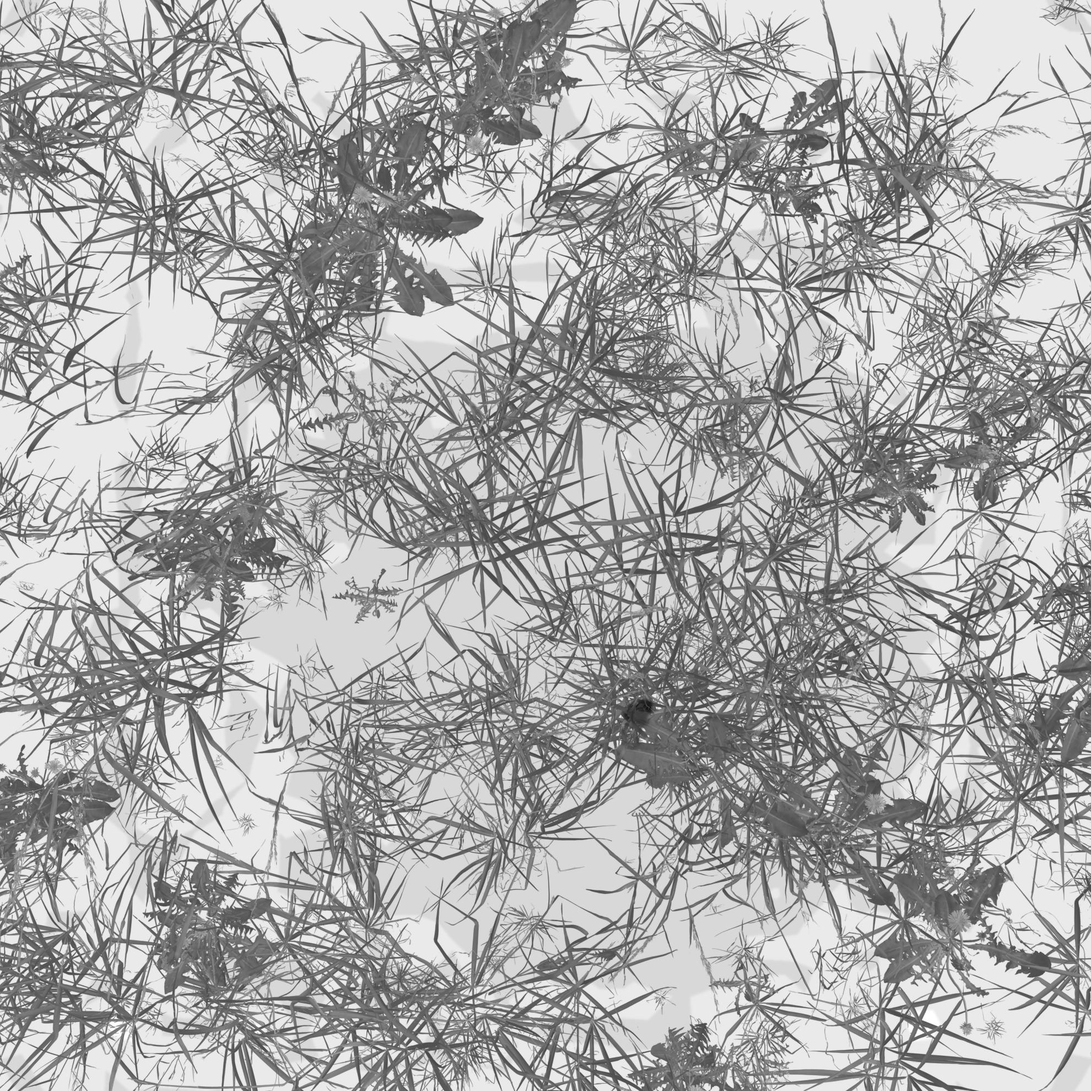landmine: (616, 696, 654, 748)
